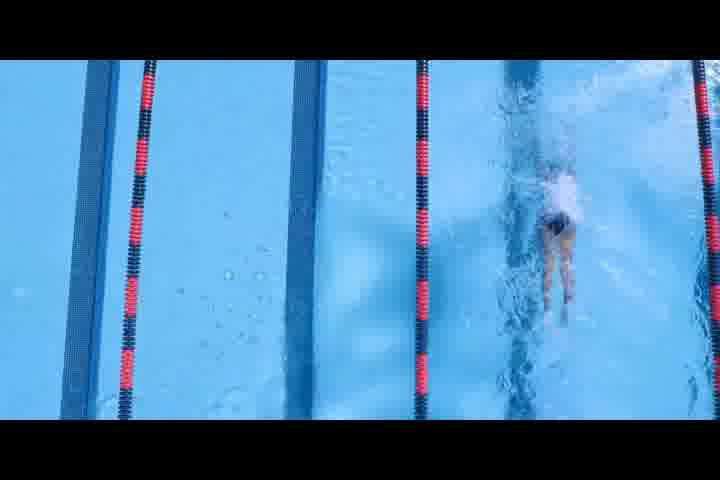swimmer: (528, 118, 594, 333)
